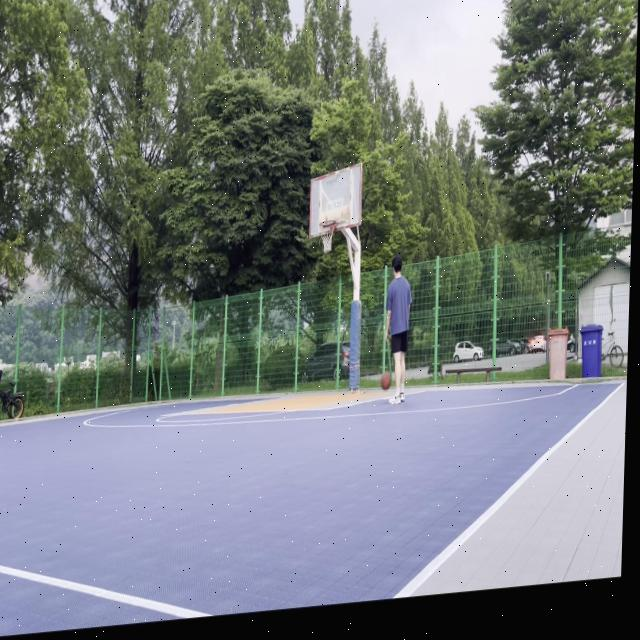basketball: (380, 370, 392, 392)
hoop: (318, 219, 336, 255)
